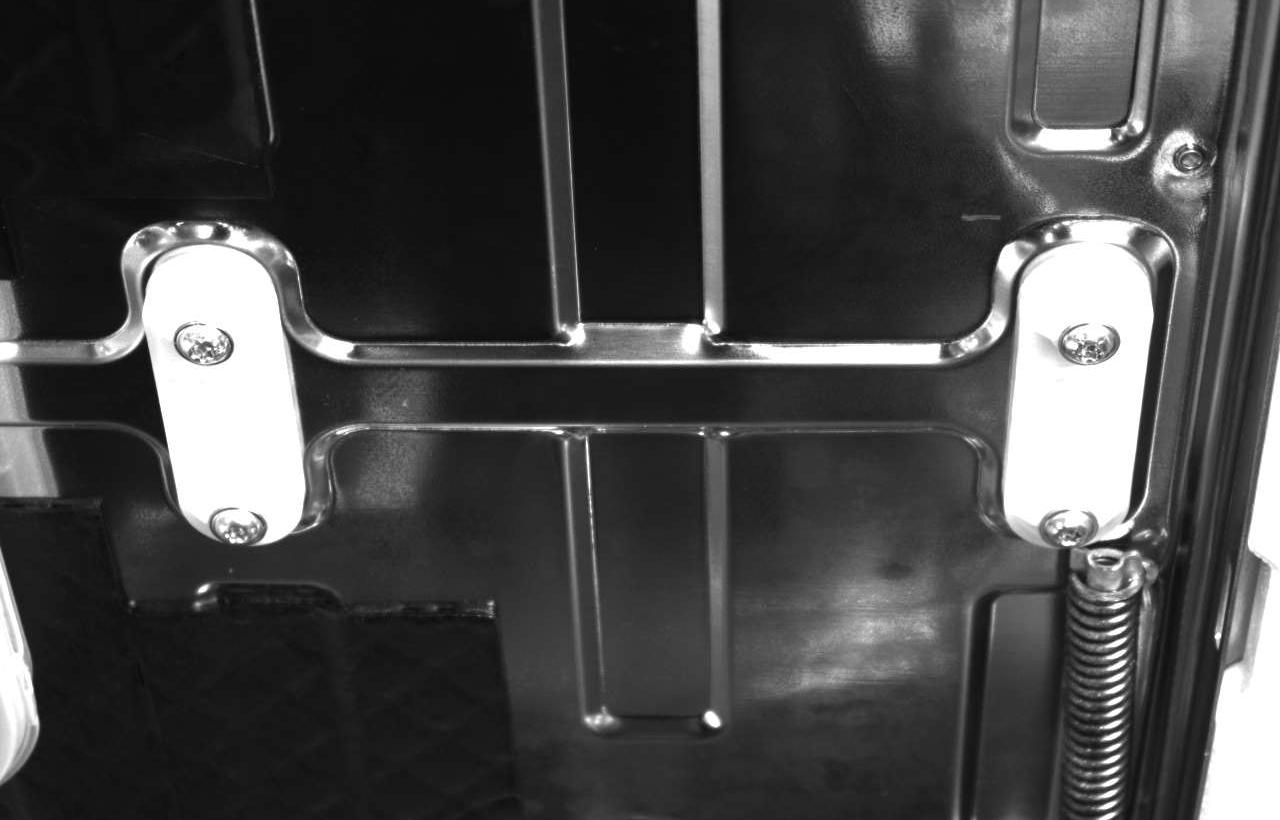vida-ok: (154, 307, 241, 385), (1044, 306, 1132, 378), (205, 497, 282, 562), (1025, 500, 1100, 558)
